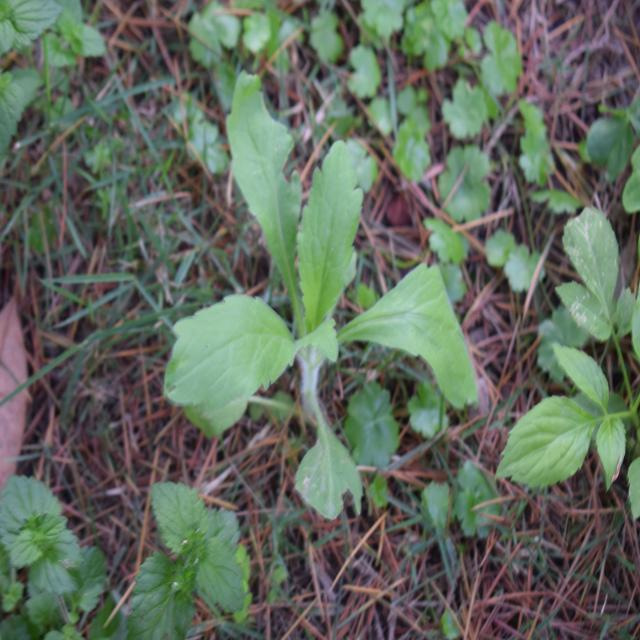horseweed: (182, 112, 460, 474)
